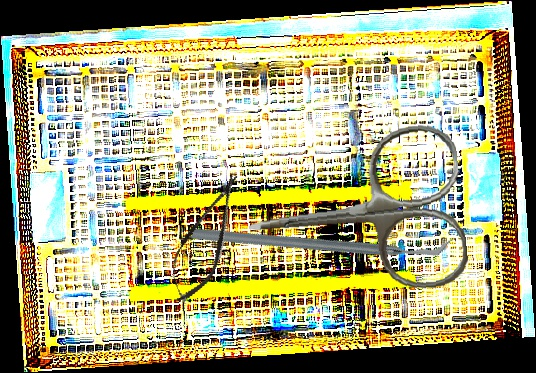Chopper: (189, 130, 453, 349)
Iris Scissors: (240, 121, 471, 307)
Micro Scissor: (158, 165, 254, 310)
